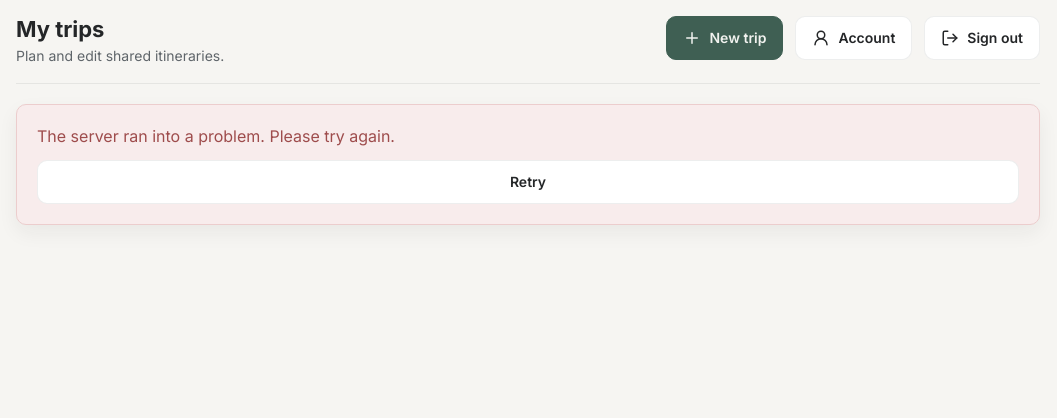
Scenario: <TripsPage> › shows a retryable error state
Expected: the text "The server ran into a problem. Please try again." is shown, x1=37 y1=126 x2=395 y2=146
Click the button "Retry": click(528, 182) x1=37 y1=160 x2=1019 y2=204
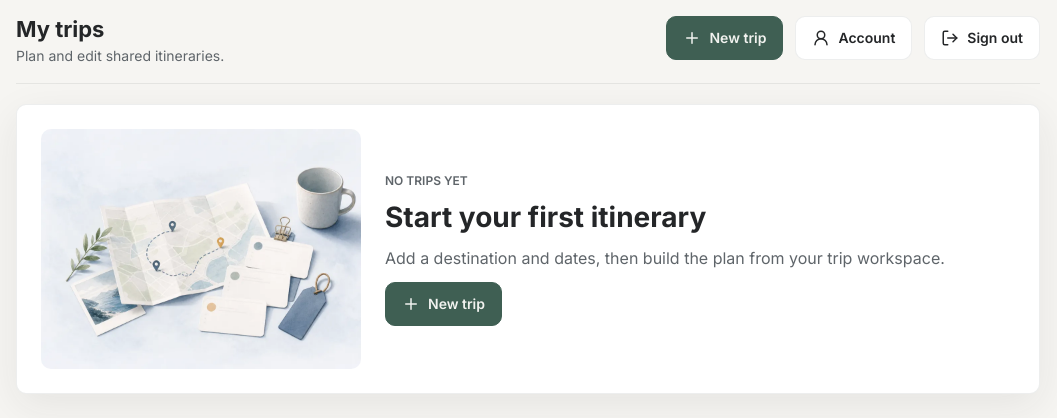
Result: the text "No trips yet" is shown at x1=385 y1=172 x2=468 y2=189
